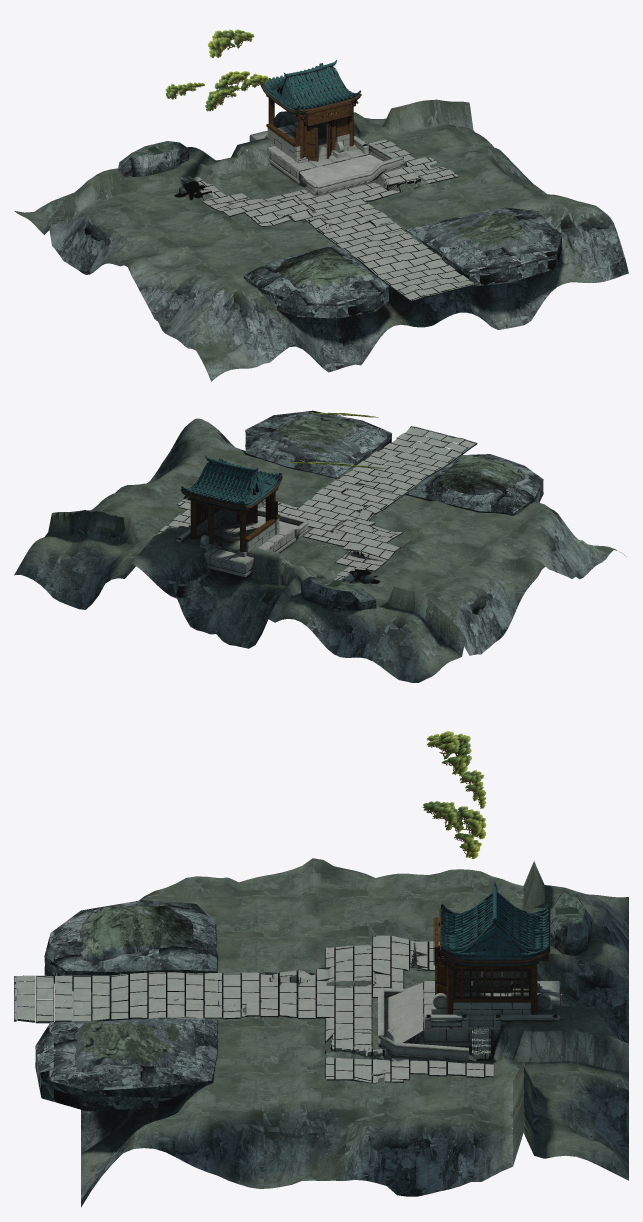
Rendered from world-h36.glb.
The picture shows the model from 3 angles, top to bottom: view 1: azimuth 30°, elevation 25°; view 2: azimuth 150°, elevation 25°; view 3: azimuth 270°, elevation 25°; orthographic projection. The views are drawn at different scales.
Parts seen in each view (by area): view 1: H36_Ground_BakedMesh, H36_Rock_BakedMesh, H36_Road_BakedMesh, H36_Gate_BakedMesh, MainCrown, TopCrown; view 2: H36_Ground_BakedMesh, H36_Rock_BakedMesh, H36_Road_BakedMesh, H36_Gate_BakedMesh; view 3: H36_Ground_BakedMesh, H36_Rock_BakedMesh, H36_Road_BakedMesh, H36_Gate_BakedMesh, MainCrown, TopCrown.
Part boxes in pixels (left/top/right/bottom): H36_Ground_BakedMesh: left=14, top=99, right=628, bottom=381; H36_Rock_BakedMesh: left=118, top=141, right=562, bottom=318; H36_Road_BakedMesh: left=180, top=139, right=477, bottom=302; H36_Gate_BakedMesh: left=249, top=60, right=403, bottom=194; MainCrown: left=205, top=71, right=268, bottom=111; TopCrown: left=208, top=29, right=254, bottom=57; H36_Ground_BakedMesh: left=14, top=418, right=626, bottom=682; H36_Rock_BakedMesh: left=245, top=410, right=543, bottom=611; H36_Road_BakedMesh: left=158, top=426, right=477, bottom=582; H36_Gate_BakedMesh: left=175, top=455, right=308, bottom=577; H36_Ground_BakedMesh: left=81, top=858, right=628, bottom=1207; H36_Rock_BakedMesh: left=35, top=892, right=592, bottom=1111; H36_Road_BakedMesh: left=14, top=935, right=494, bottom=1083; H36_Gate_BakedMesh: left=378, top=881, right=561, bottom=1061; MainCrown: left=422, top=801, right=486, bottom=858; TopCrown: left=427, top=731, right=471, bottom=775.
Bounding box in the file's own units: 22 × 11.77 × 20.2.
Materials: 8 (8 with a texture image).
